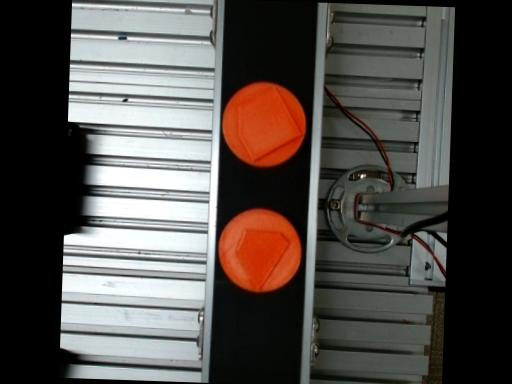Not_Square: (235, 86, 299, 162), (235, 229, 291, 291)
Orange_Waper: (221, 82, 304, 165), (217, 208, 299, 291)
